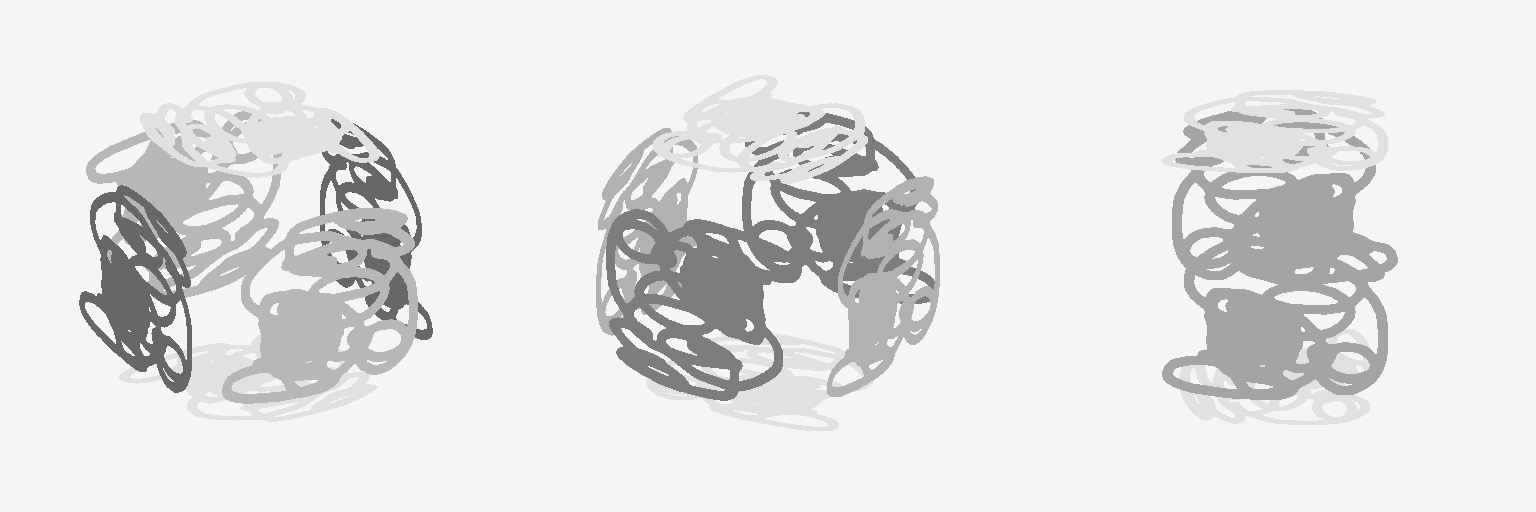
3 views of the same model, side by side, from view 1: azimuth 30°, elevation 25°; view 2: azimuth 150°, elevation 25°; view 3: azimuth 270°, elevation 25° (orthographic).
Parts seen in each view (by area): view 1: Cube; view 2: Cube; view 3: Cube.
Boxes of the visible parts, x1,y1,x2,y2 form: Cube: [79, 82, 432, 421]; Cube: [596, 75, 939, 431]; Cube: [1162, 90, 1397, 424].
Bounding box in the file's own units: 2 × 2 × 2.
Materials: 1 (1 with a texture image).